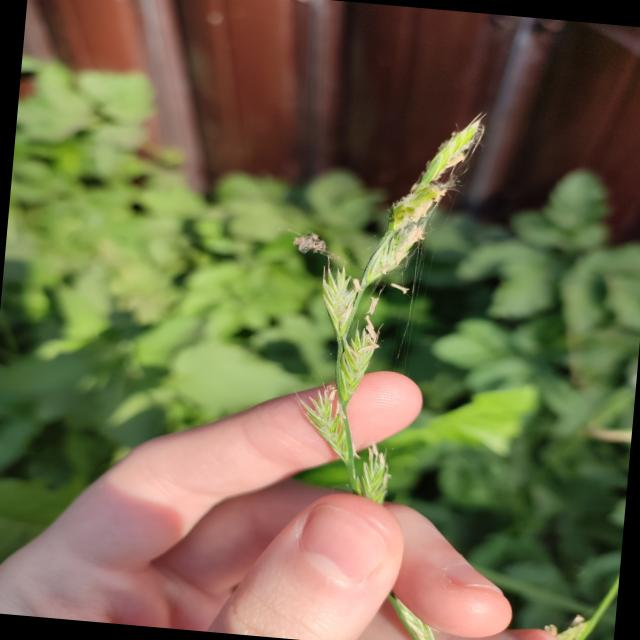Lolium: (252, 94, 495, 640)
